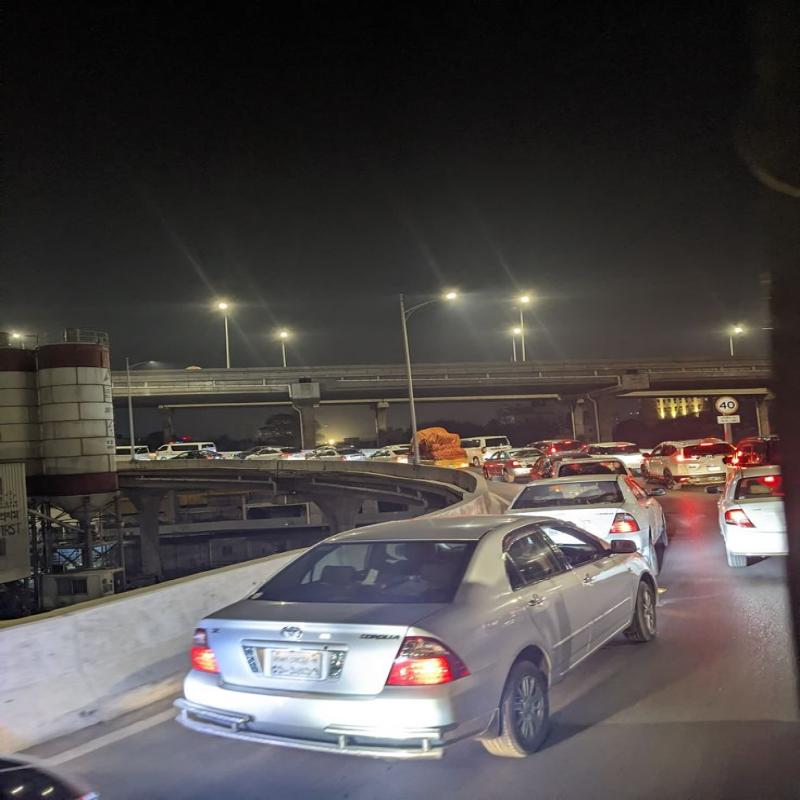license plate on a car: (265, 650, 322, 680), (707, 465, 721, 471)
